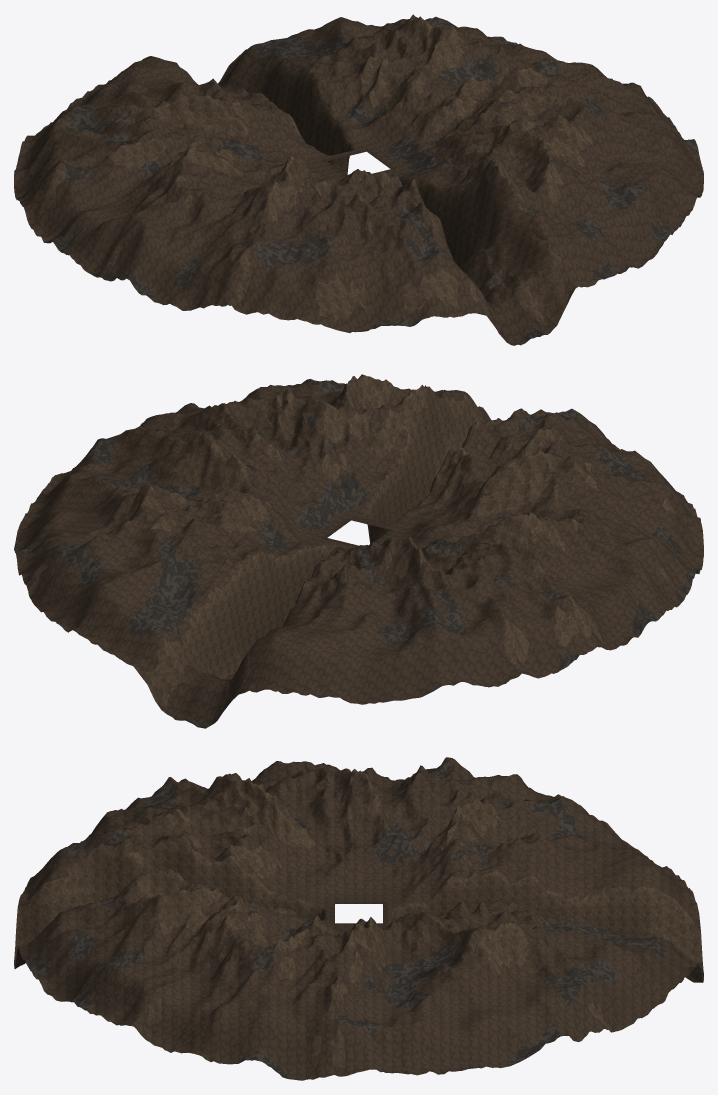
The model's file is backdrop_near_rect_ridge_dead.glb.
3 renders of one model, top to bottom at view 1: azimuth 30°, elevation 25°; view 2: azimuth 150°, elevation 25°; view 3: azimuth 270°, elevation 25°, orthographic.
Visible parts, largest first — view 1: near_land_S, near_land_W, near_land_E, near_land_N; view 2: near_land_N, near_land_W, near_land_E, near_land_S; view 3: near_land_E, near_land_S, near_land_N, near_land_W.
Part boxes in pixels (left/top/right/bottom): near_land_S: left=269, top=118, right=691, bottom=345; near_land_W: left=14, top=94, right=343, bottom=314; near_land_E: left=368, top=16, right=703, bottom=211; near_land_N: left=26, top=14, right=440, bottom=174; near_land_N: left=26, top=500, right=448, bottom=728; near_land_W: left=378, top=450, right=703, bottom=687; near_land_E: left=14, top=385, right=351, bottom=584; near_land_S: left=278, top=374, right=687, bottom=543; near_land_E: left=116, top=899, right=603, bottom=1080; near_land_S: left=14, top=797, right=338, bottom=1024; near_land_N: left=388, top=800, right=703, bottom=1032; near_land_W: left=141, top=757, right=601, bottom=902.
Size of the model in its own units: 576 by 168 by 576.
3 materials, 3 textured.
